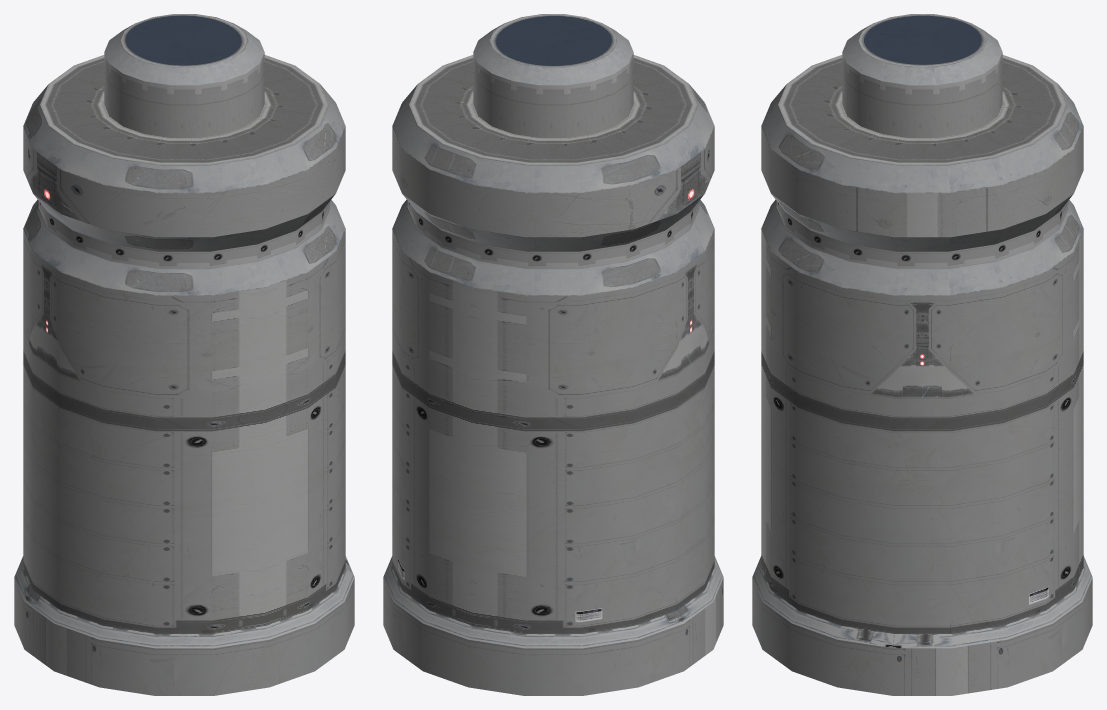
Rendered from SM_CrateCyl1.fbx.
The picture shows the model from 3 angles, left to right: view 1: azimuth 30°, elevation 25°; view 2: azimuth 150°, elevation 25°; view 3: azimuth 270°, elevation 25°; orthographic projection.
Visible parts, largest first — view 1: SM_CrateCyl1_LOD0; view 2: SM_CrateCyl1_LOD0; view 3: SM_CrateCyl1_LOD0.
Boxes of the visible parts, <box> form: SM_CrateCyl1_LOD0: <box>14,14,354,695</box>; SM_CrateCyl1_LOD0: <box>383,14,723,695</box>; SM_CrateCyl1_LOD0: <box>752,14,1092,695</box>.
Bounding box in the file's own units: 52.01 × 52.81 × 100.
